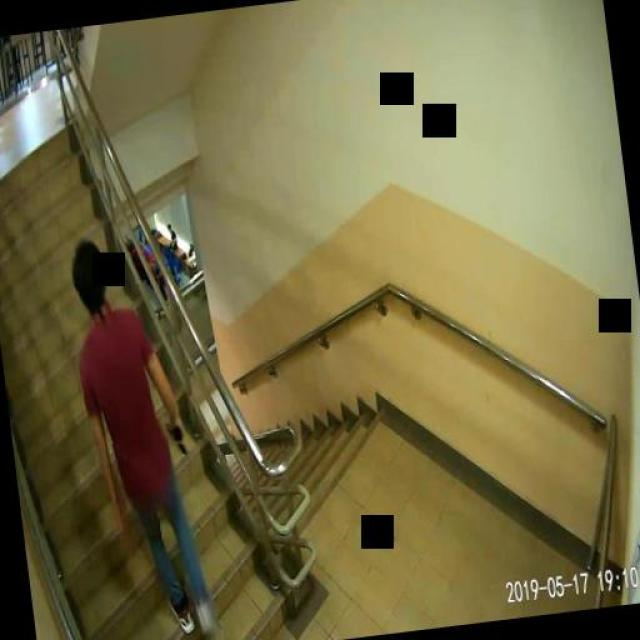gun: (165, 420, 185, 458)
